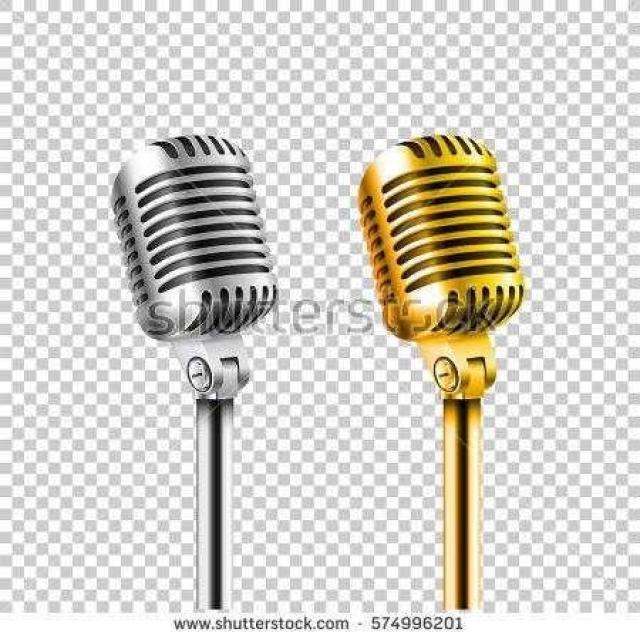microphone: (354, 130, 527, 609), (107, 136, 277, 611)
